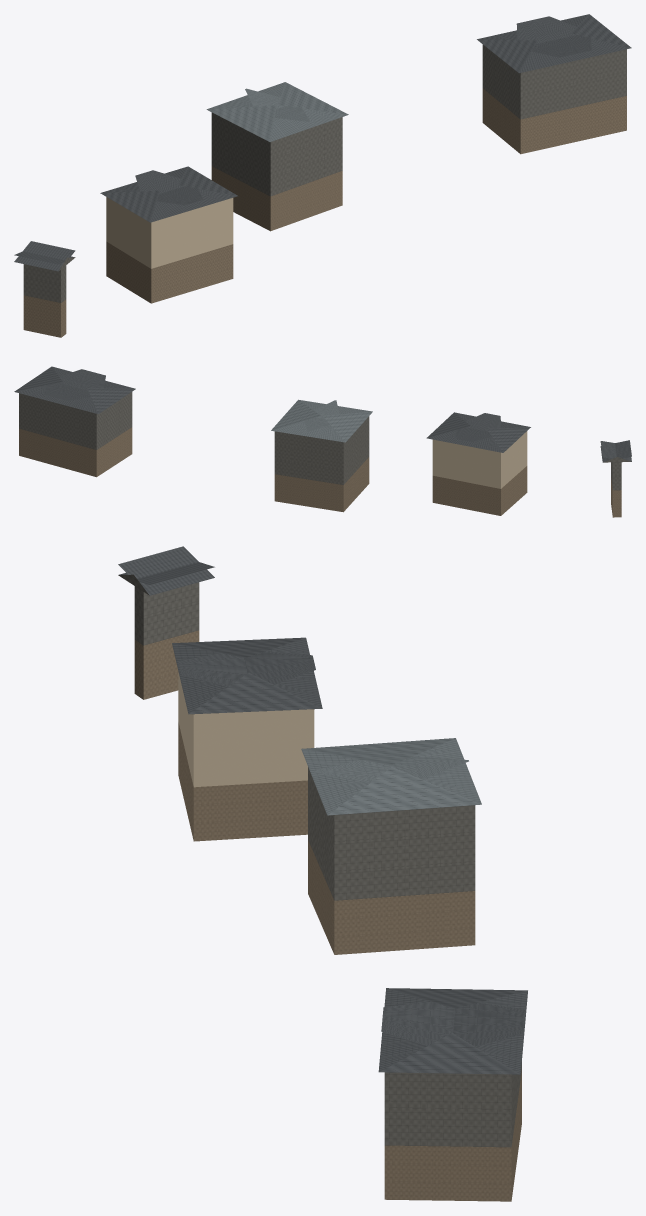
Rendered from bld_c14_25_397.gltf.
3 views of the same model, one above another, from view 1: azimuth 30°, elevation 25°; view 2: azimuth 150°, elevation 25°; view 3: azimuth 270°, elevation 25° (orthographic). The views are drawn at different scales.
Visible parts, largest first — view 1: bld_c14_25_397; view 2: bld_c14_25_397; view 3: bld_c14_25_397.
Boxes of the visible parts, x1,y1,x2,y2 form: bld_c14_25_397: (14, 14, 631, 337); bld_c14_25_397: (14, 366, 631, 517); bld_c14_25_397: (118, 546, 527, 1201).
Size of the model in its own units: 105 by 15.9 by 34.95.
6 materials, 6 textured.
